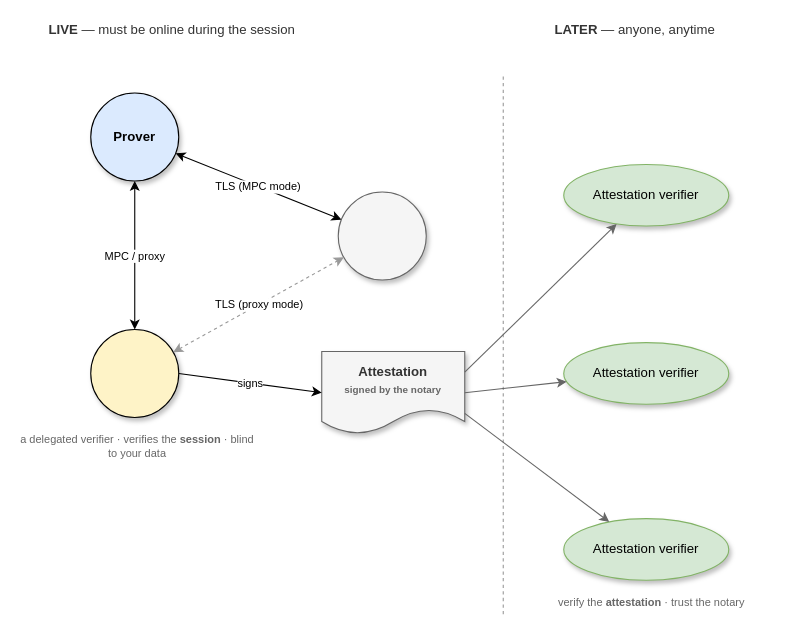
Image size: 791x640. Some labels were removed from this diagram. Each missing label, with the centre of its shape:
"Notary" belongs at point 135,374.
"Server" belongs at point 383,237.
